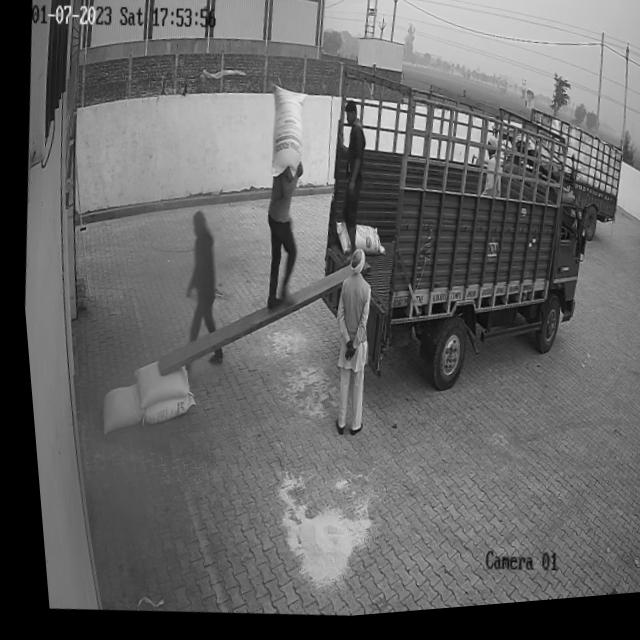sack: (261, 84, 310, 184), (123, 358, 184, 414), (90, 379, 138, 437), (133, 391, 189, 430)
